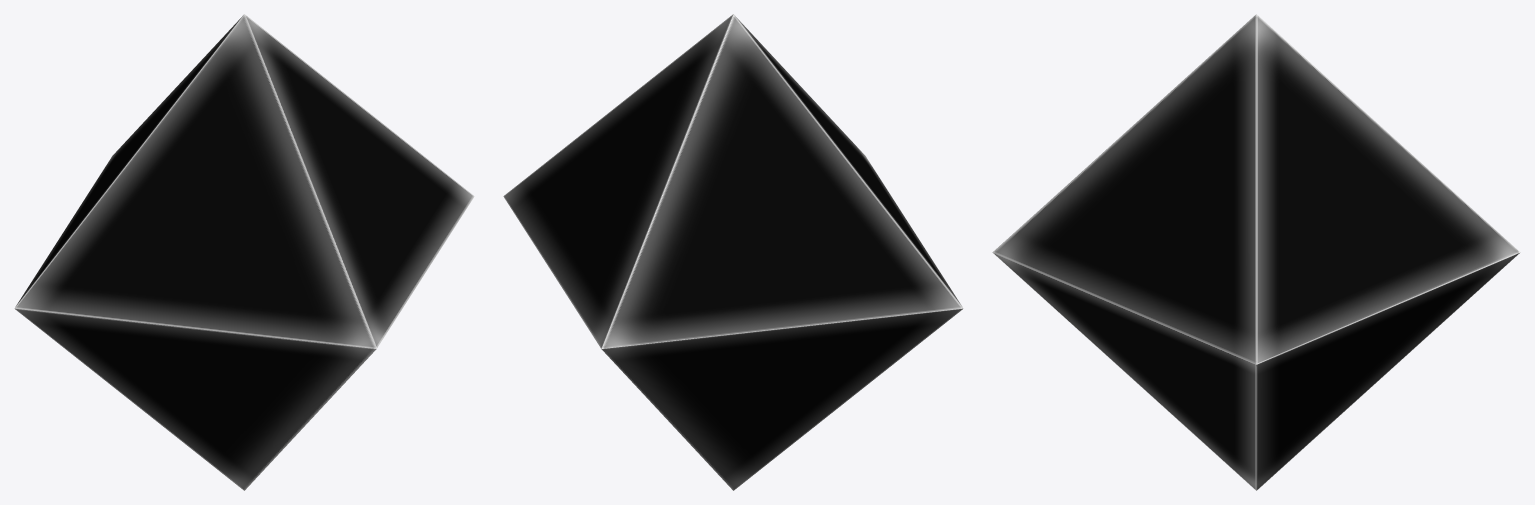
The model's file is lingxing_mox.FBX.
The picture shows the model from 3 angles, left to right: view 1: azimuth 30°, elevation 25°; view 2: azimuth 150°, elevation 25°; view 3: azimuth 270°, elevation 25°; orthographic projection.
Parts seen in each view (by area): view 1: Plane002; view 2: Plane002; view 3: Plane002.
Boxes of the visible parts, left/top/right/bottom form: Plane002: left=14, top=14, right=474, bottom=490; Plane002: left=503, top=14, right=963, bottom=490; Plane002: left=992, top=14, right=1520, bottom=490.
Size of the model in its own units: 80.47 by 79.67 by 79.96.
